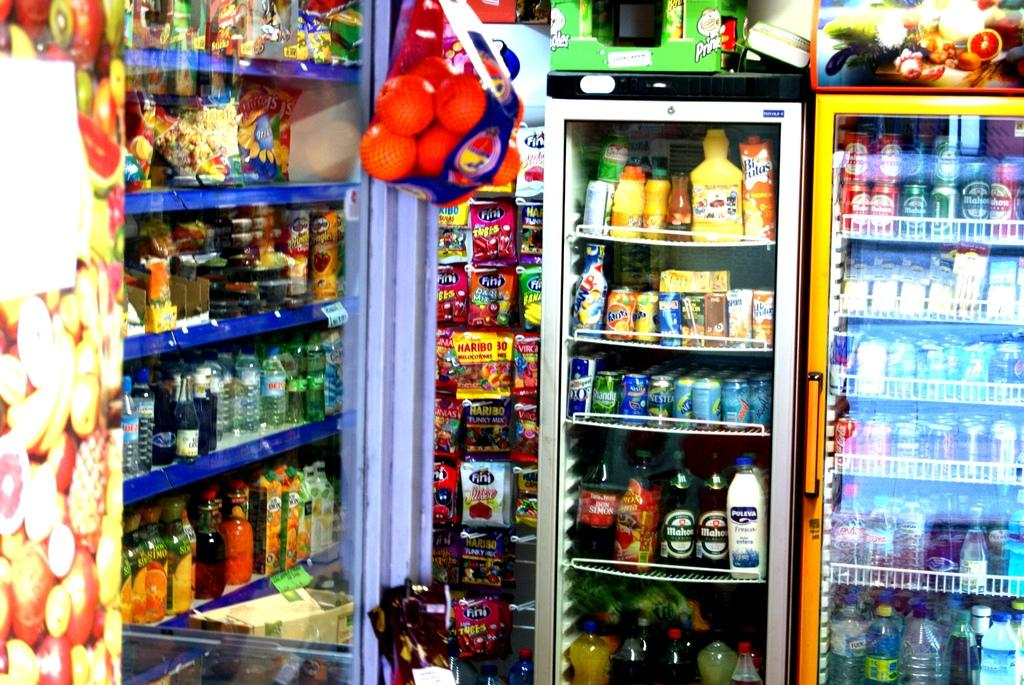handle: (802, 370, 824, 496)
